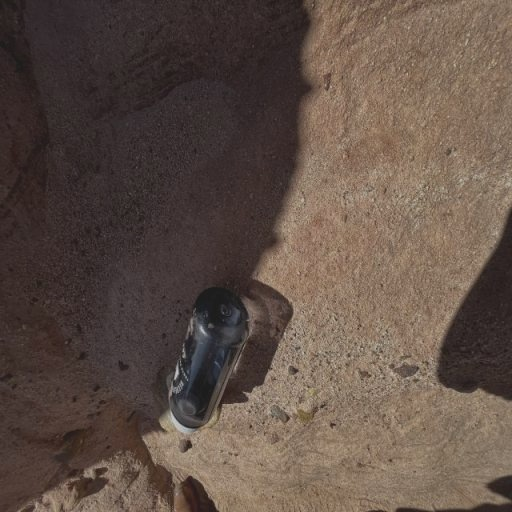bottle: (168, 286, 250, 434)
